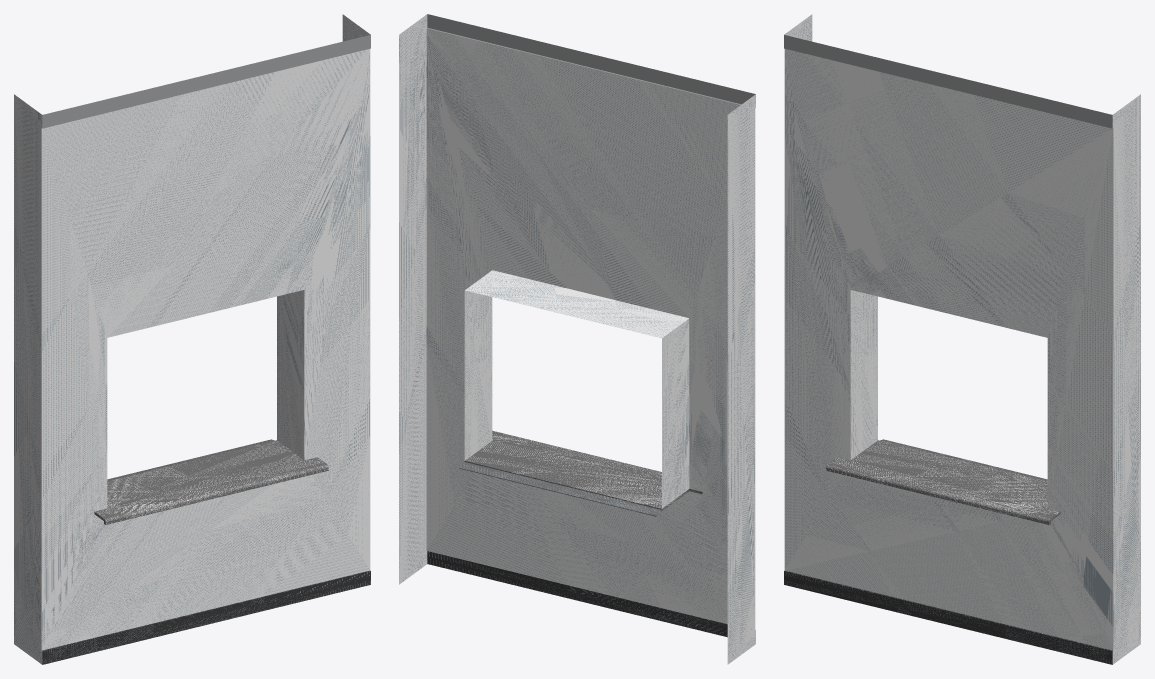
File: WindowBlock_os_plinth_[250x400]_150x124x[100].dae
3 renders of one model, left to right at view 1: azimuth 30°, elevation 25°; view 2: azimuth 150°, elevation 25°; view 3: azimuth 330°, elevation 25°, orthographic.
Parts seen in each view (by area): view 1: group_2 (×4), group_1; view 2: group_2 (×4), group_1 (×2); view 3: group_2 (×4), group_1.
Part boxes in pixels (bbox=[...]): group_2 (×4): bbox=[14, 14, 370, 664]; group_1: bbox=[94, 440, 328, 524]; group_2 (×4): bbox=[399, 14, 755, 664]; group_1 (×2): bbox=[459, 430, 702, 516]; group_2 (×4): bbox=[784, 14, 1140, 664]; group_1: bbox=[826, 440, 1060, 524].
Size of the model in its own units: 98.43 by 23.03 by 157.
